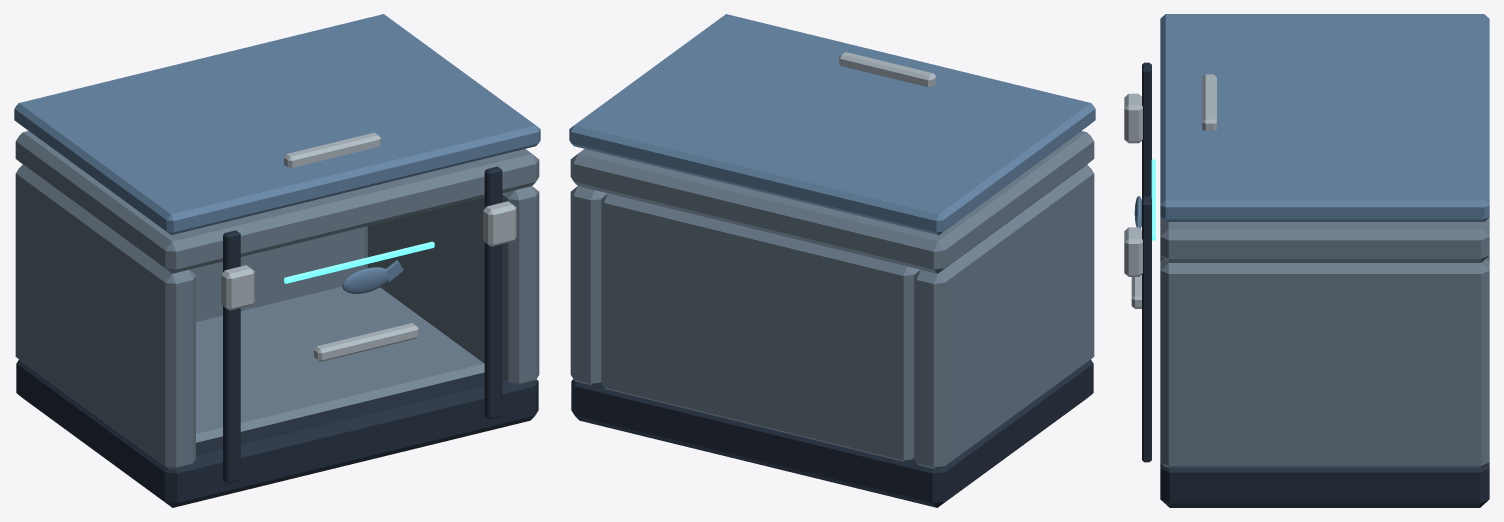
Rendered from logistics_05.glb.
3 views of the same model, side by side, from view 1: azimuth 30°, elevation 25°; view 2: azimuth 150°, elevation 25°; view 3: azimuth 270°, elevation 25° (orthographic). The views are drawn at different scales.
Visible parts, largest first — view 1: Lid, Side (×2), Base, Bottom, Top, CaseStrap (×2), Back, Handle (×2), Latch (×2), StatusLight, WhaleBody; view 2: Lid, Back, Side (×2), Top, Base, Handle; view 3: Lid, Side, Top, Base, CaseStrap (×2), Latch (×2), Handle.
Boxes of the visible parts, <box> form: Lid: <box>14,14,540,235</box>; Side (×2): <box>15,164,539,469</box>; Base: <box>16,287,538,507</box>; Bottom: <box>196,286,484,442</box>; Top: <box>15,131,539,273</box>; CaseStrap (×2): <box>223,166,502,483</box>; Back: <box>189,226,367,321</box>; Handle (×2): <box>284,132,418,361</box>; Latch (×2): <box>221,201,516,310</box>; StatusLight: <box>284,241,434,283</box>; WhaleBody: <box>342,267,387,293</box>; Lid: <box>569,14,1095,235</box>; Back: <box>601,193,920,461</box>; Side (×2): <box>570,164,1094,469</box>; Top: <box>570,131,1094,273</box>; Base: <box>571,359,1093,507</box>; Handle: <box>839,52,936,87</box>; Lid: <box>1160,14,1489,221</box>; Side: <box>1160,259,1489,467</box>; Top: <box>1160,217,1489,262</box>; Base: <box>1160,463,1489,507</box>; CaseStrap (×2): <box>1142,62,1151,462</box>; Latch (×2): <box>1124,93,1142,276</box>; Handle: <box>1202,74,1216,130</box>.
Size of the model in its own units: 0.85 by 0.664 by 0.6875.
